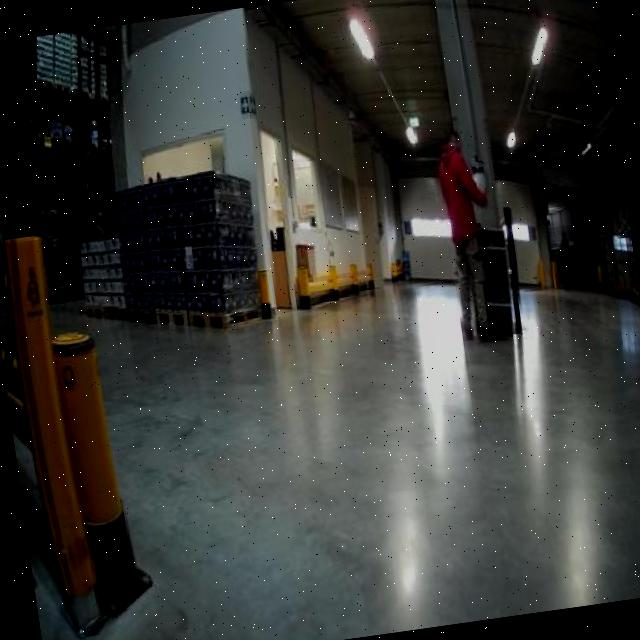pallet: (186, 290, 267, 332)
